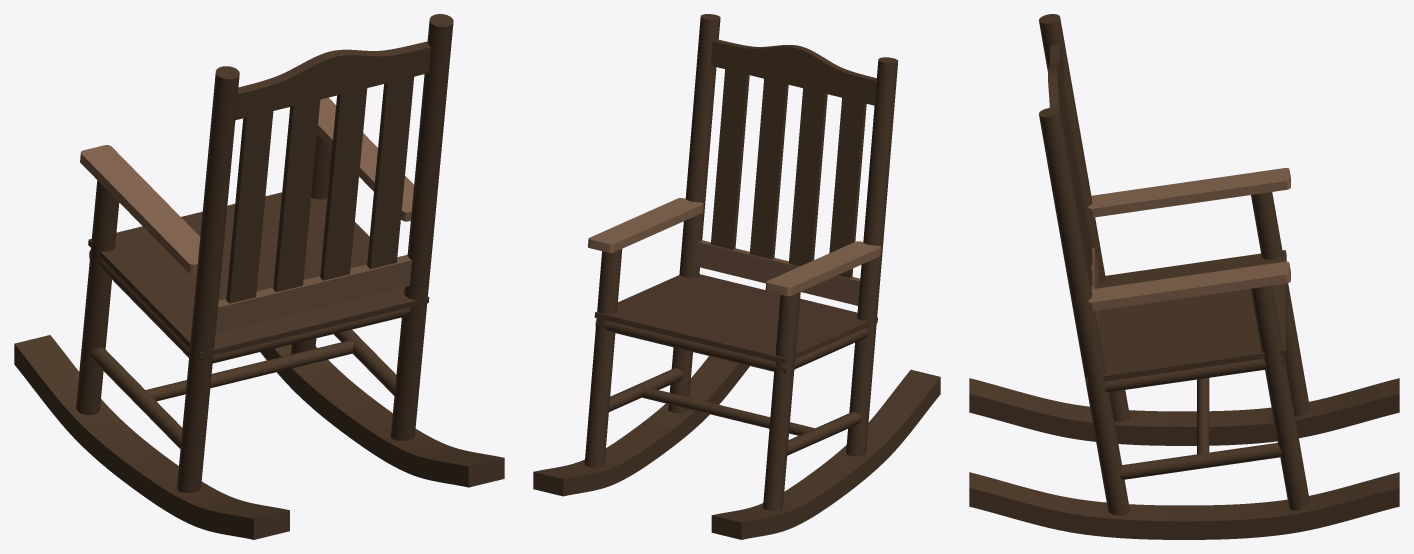
The picture shows the model from 3 angles, left to right: view 1: azimuth 30°, elevation 25°; view 2: azimuth 150°, elevation 25°; view 3: azimuth 270°, elevation 25°; orthographic projection. The views are drawn at different scales.
Parts seen in each view (by area): view 1: rocking_chair; view 2: rocking_chair; view 3: rocking_chair.
Part boxes in pixels (x1,y1,x2,y2): rocking_chair: (14,14,504,539); rocking_chair: (533,14,940,539); rocking_chair: (969,14,1399,539).
Size of the model in its own units: 0.614 by 1.1 by 1.02.
